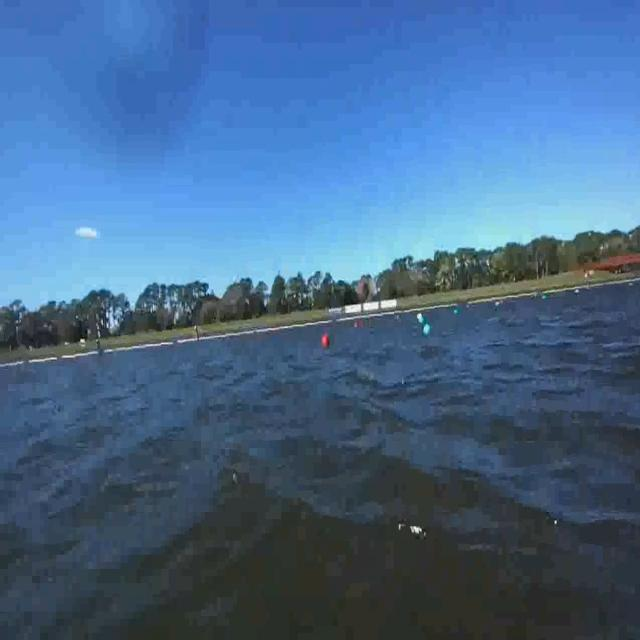green-buoy: (416, 309, 426, 322), (422, 325, 431, 338)
red-buoy: (325, 334, 332, 350)
